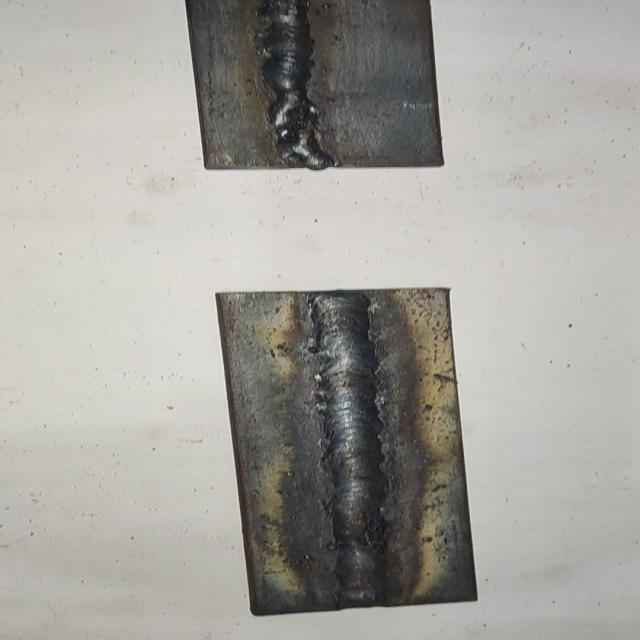Welding Line: (309, 291, 390, 606), (262, 0, 333, 163), (264, 90, 340, 168)
Workpiece: (205, 283, 486, 622), (176, 0, 453, 173)
